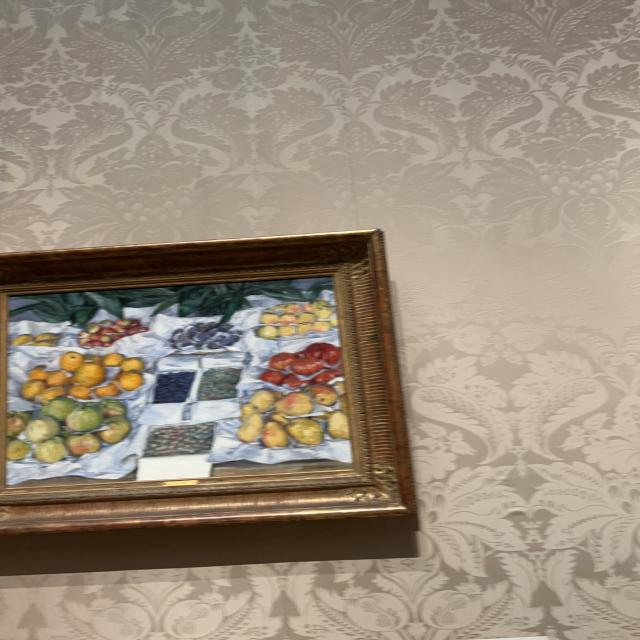fruits: (8, 277, 349, 481)
